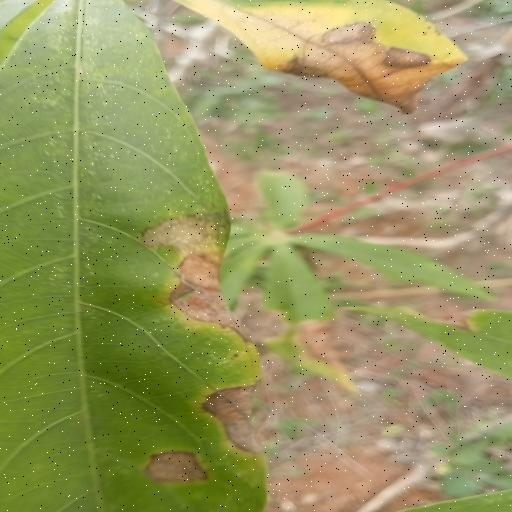Cassava_Brown_Leaf_Spot: (10, 0, 292, 512)
